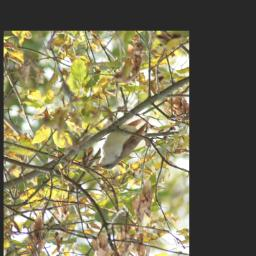Cuckoo: (90, 120, 156, 175)
